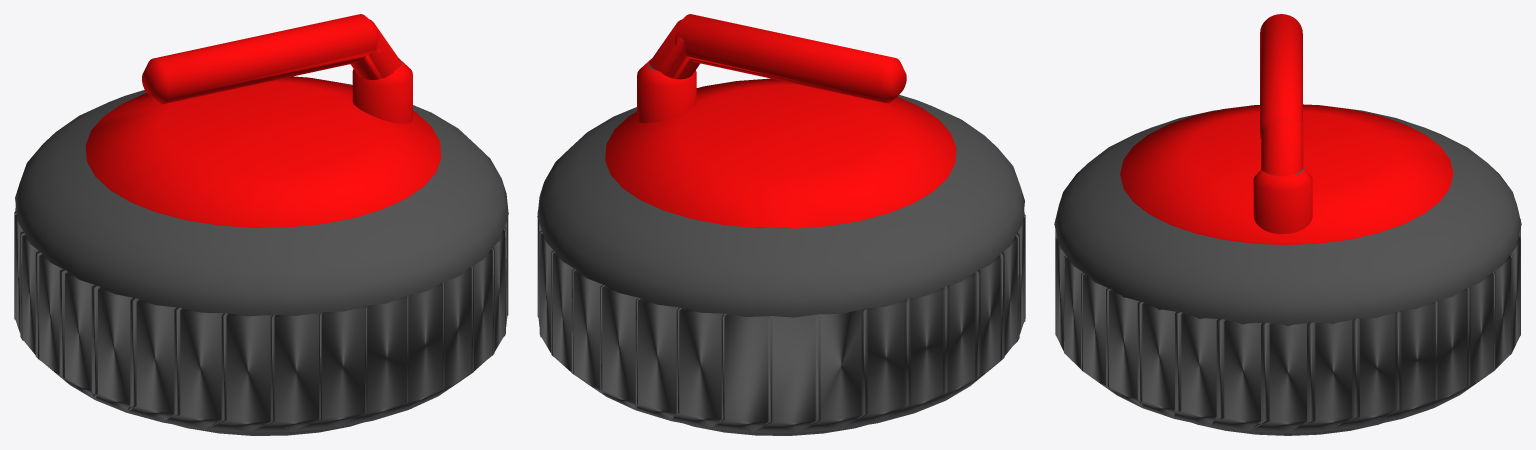
File: rock-austin.obj
The picture shows the model from 3 angles, left to right: view 1: azimuth 30°, elevation 25°; view 2: azimuth 150°, elevation 25°; view 3: azimuth 270°, elevation 25°; orthographic projection. The views are drawn at different scales.
Parts seen in each view (by area): view 1: Cylinder.002; view 2: Cylinder.002; view 3: Cylinder.002.
Boxes of the visible parts, left/top/right/bottom form: Cylinder.002: left=14, top=14, right=508, bottom=435; Cylinder.002: left=537, top=14, right=1025, bottom=435; Cylinder.002: left=1054, top=14, right=1521, bottom=435.
Bounding box in the file's own units: 0.2986 × 0.2342 × 0.3071.
